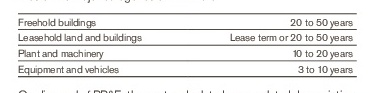table: (0, 0, 369, 93)
